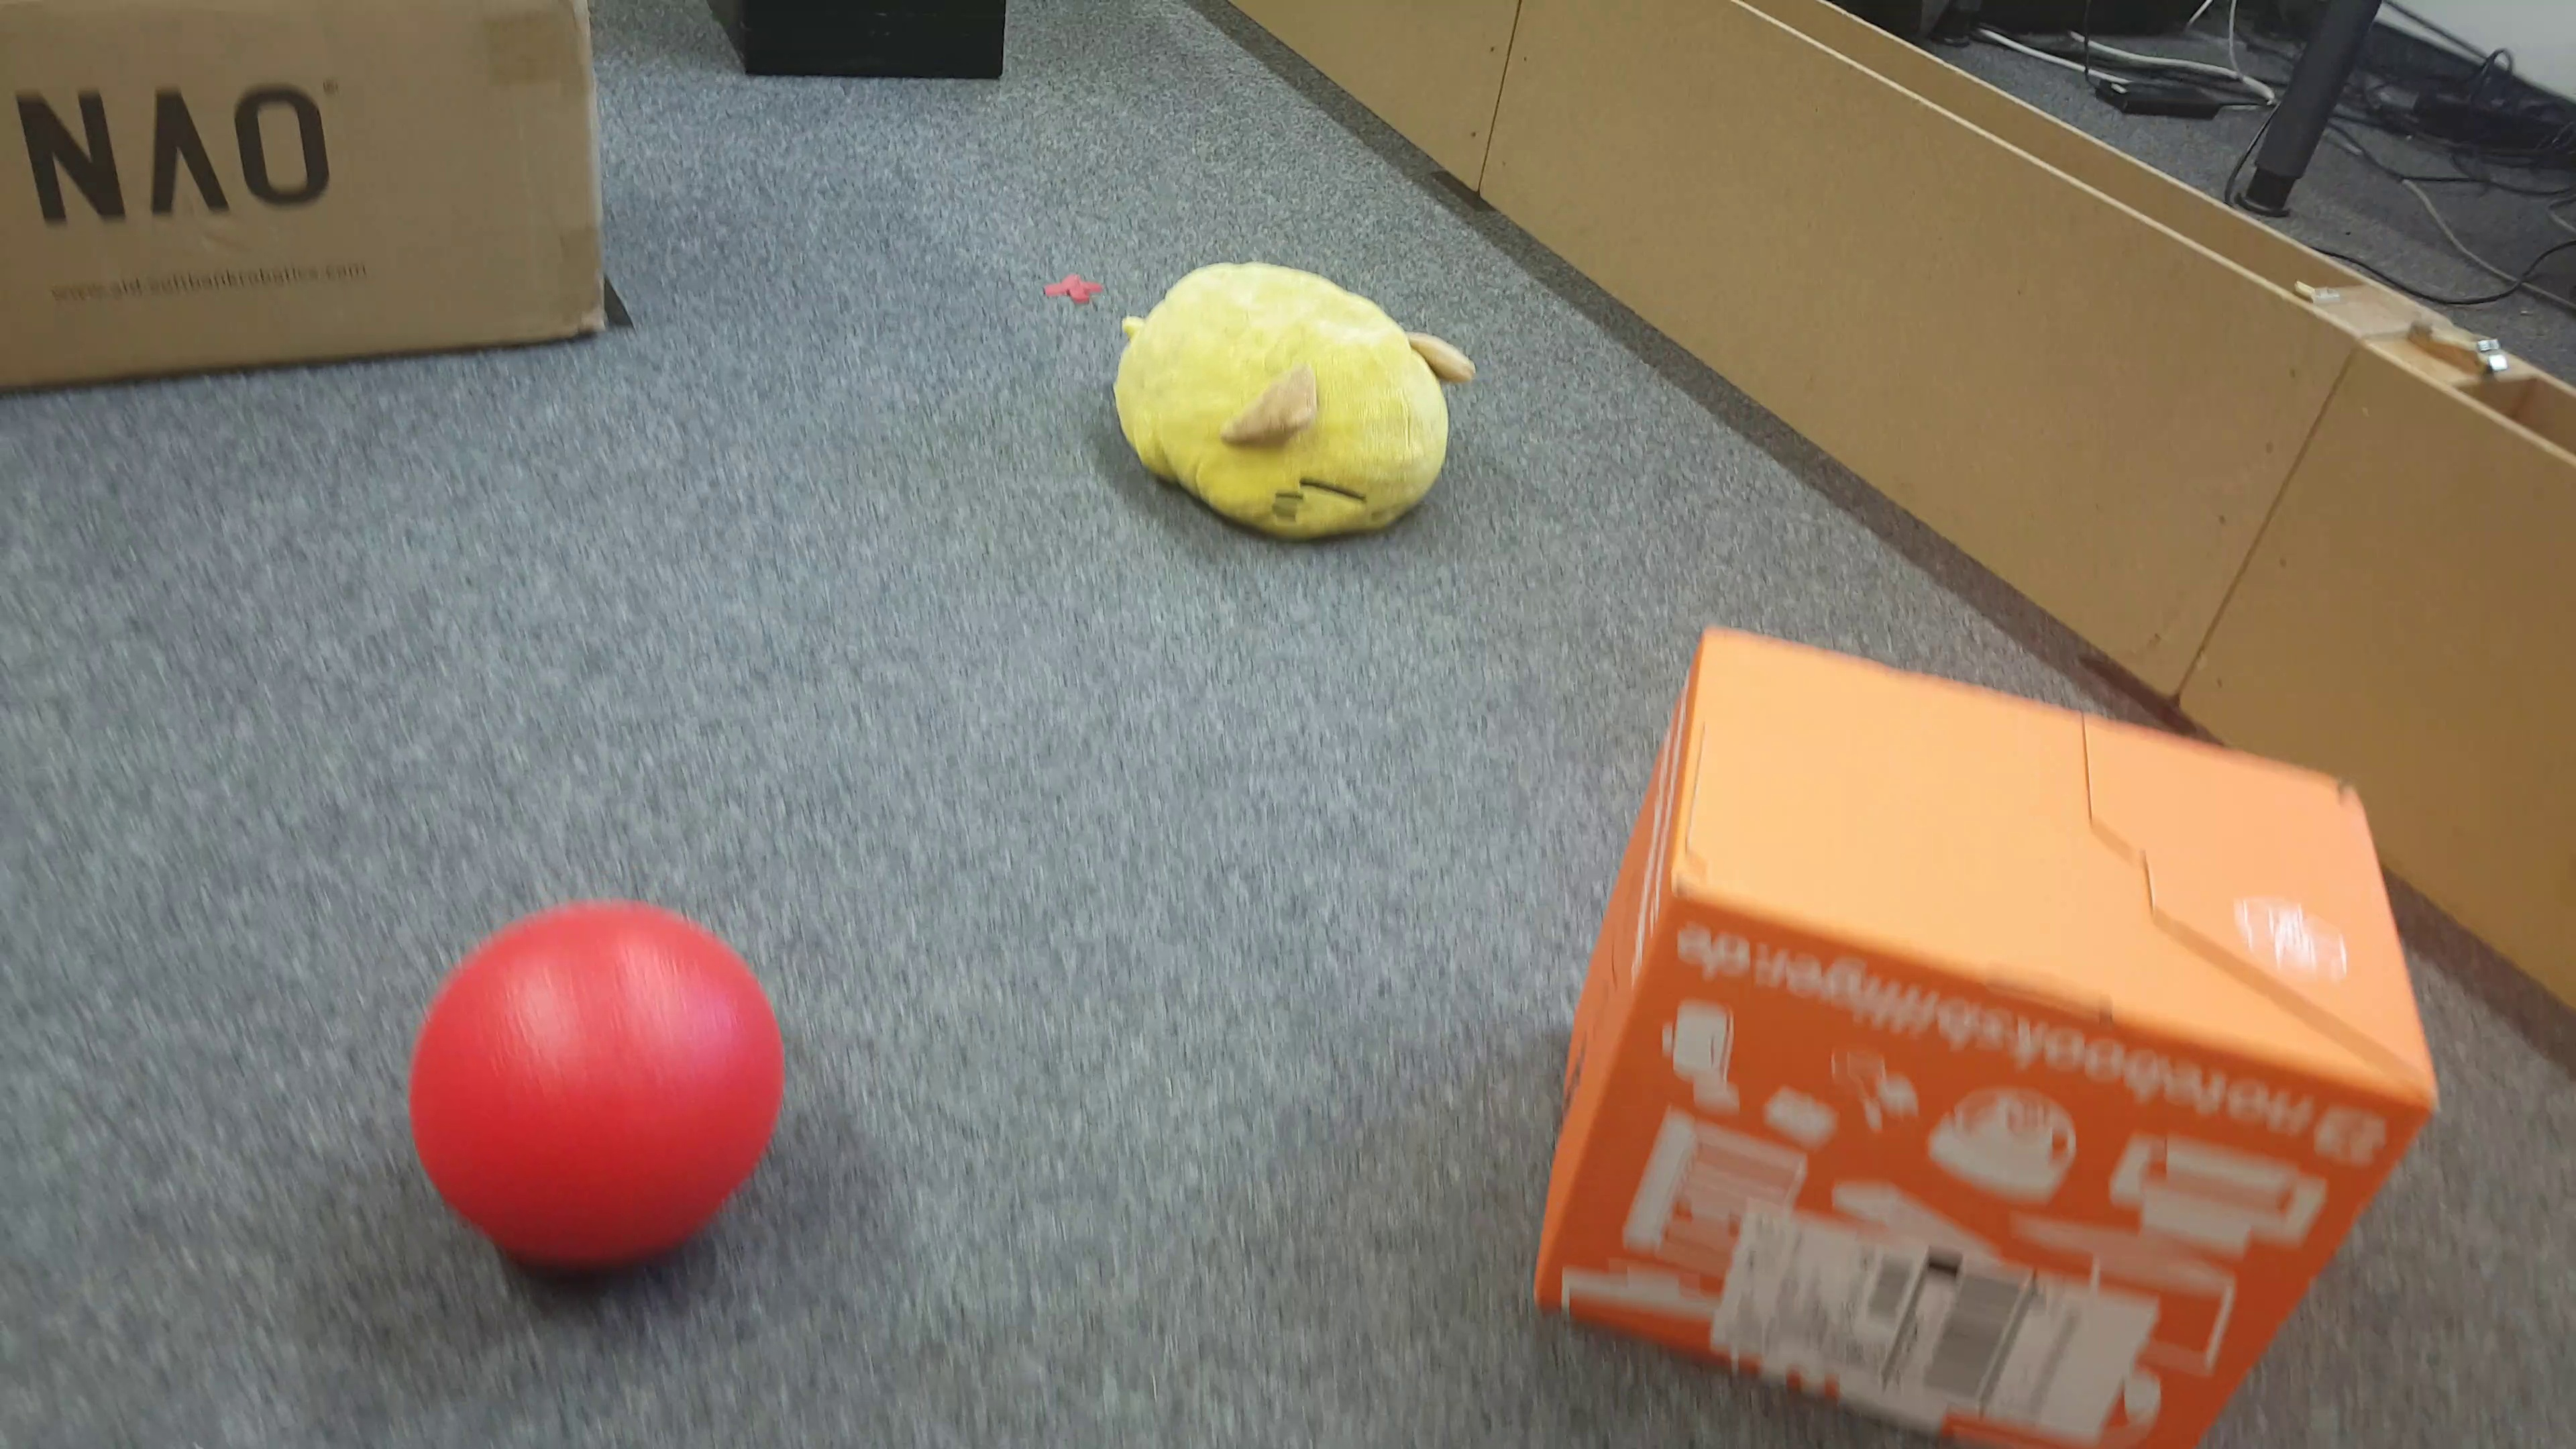grasp: (1116, 257, 1477, 561)
kick: (425, 897, 791, 1261)
push: (1532, 619, 2438, 1449)
